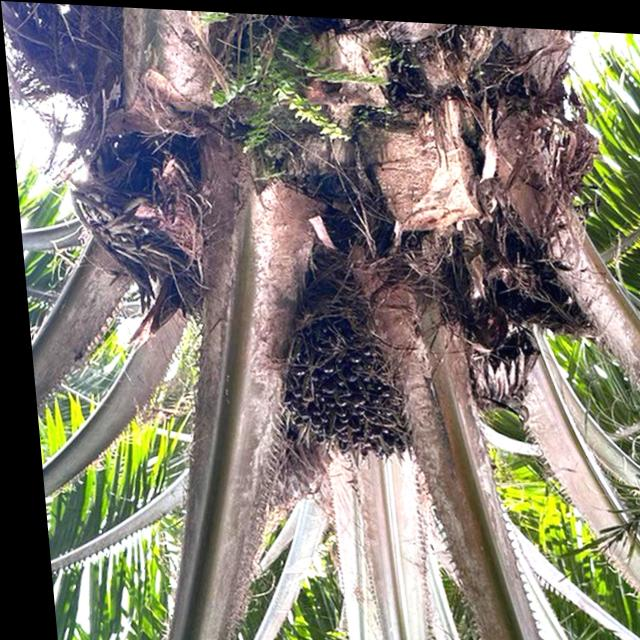almost: (252, 255, 419, 475)
